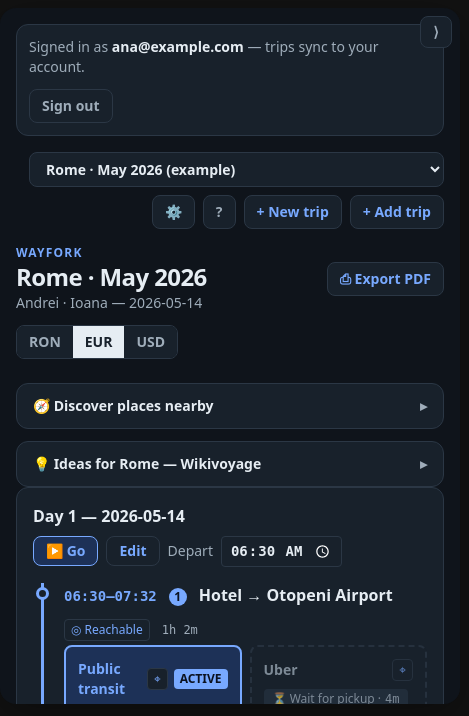
Test: WayforkApp conflict → merge → retry wiring › re-merges a rejected save onto the fresh remote and retries with its version
Select "Shared trip (uploaded)" in the dropdown named "Shared trip" at (236, 170), box top-left (29, 152), bottom-right (444, 187)
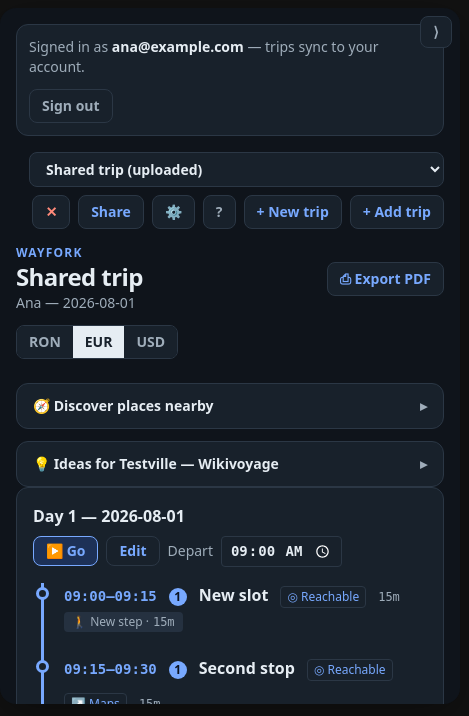
Check: the text "Second stop" is shown, box top-left (199, 656), bottom-right (295, 680)
Click the button "Edit" at (133, 551), box top-left (106, 536), bottom-right (160, 566)
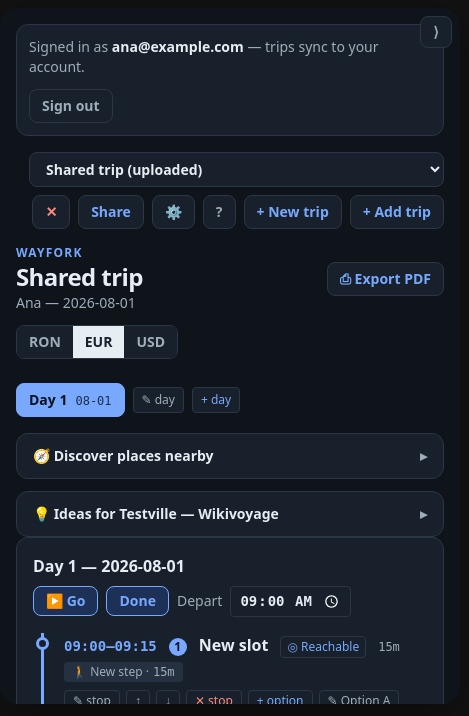
Click the button titled "Move down" at (168, 701), box top-left (156, 690), bottom-right (180, 712)
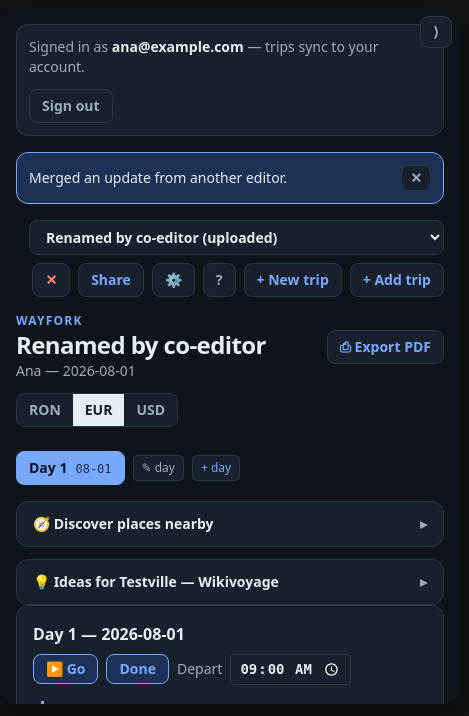
Check: the heading "Renamed by co-editor" reads "Renamed by co-editor", box top-left (16, 328), bottom-right (266, 361)
Check: the text "Merged an update from another editor." is shown, box top-left (29, 168), bottom-right (287, 188)
